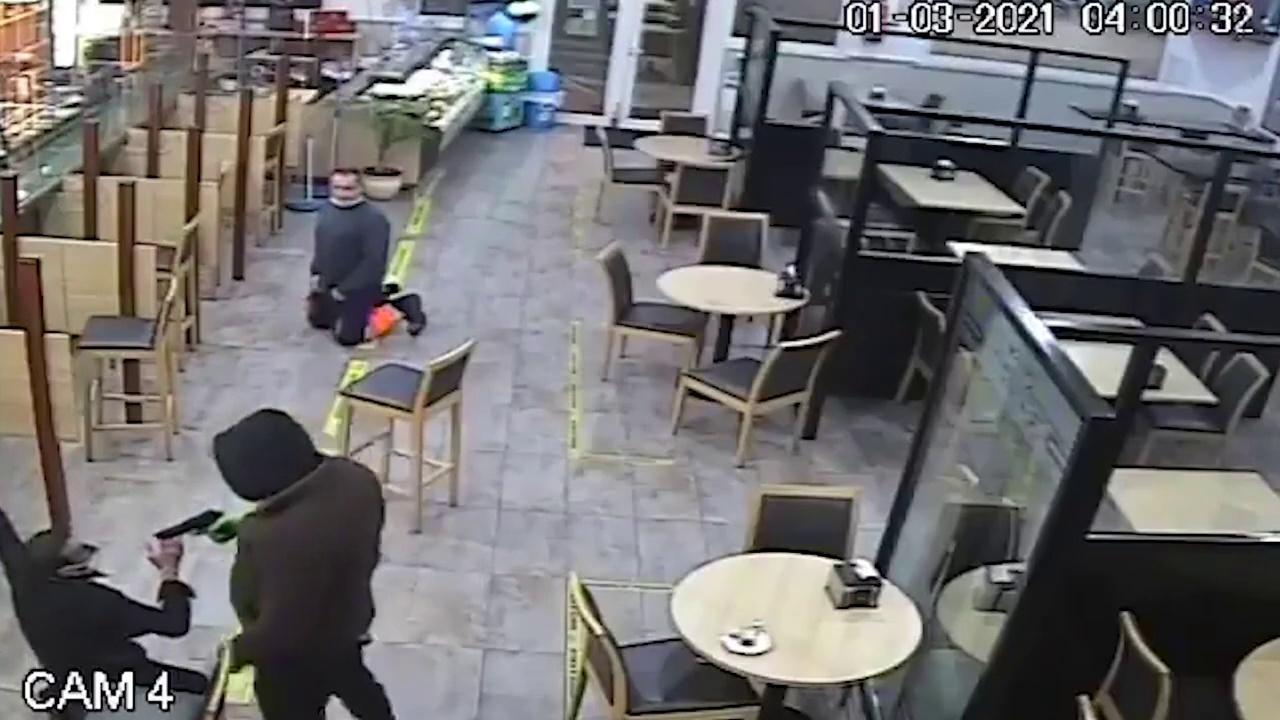Guns perspective: (141, 495, 245, 563)
